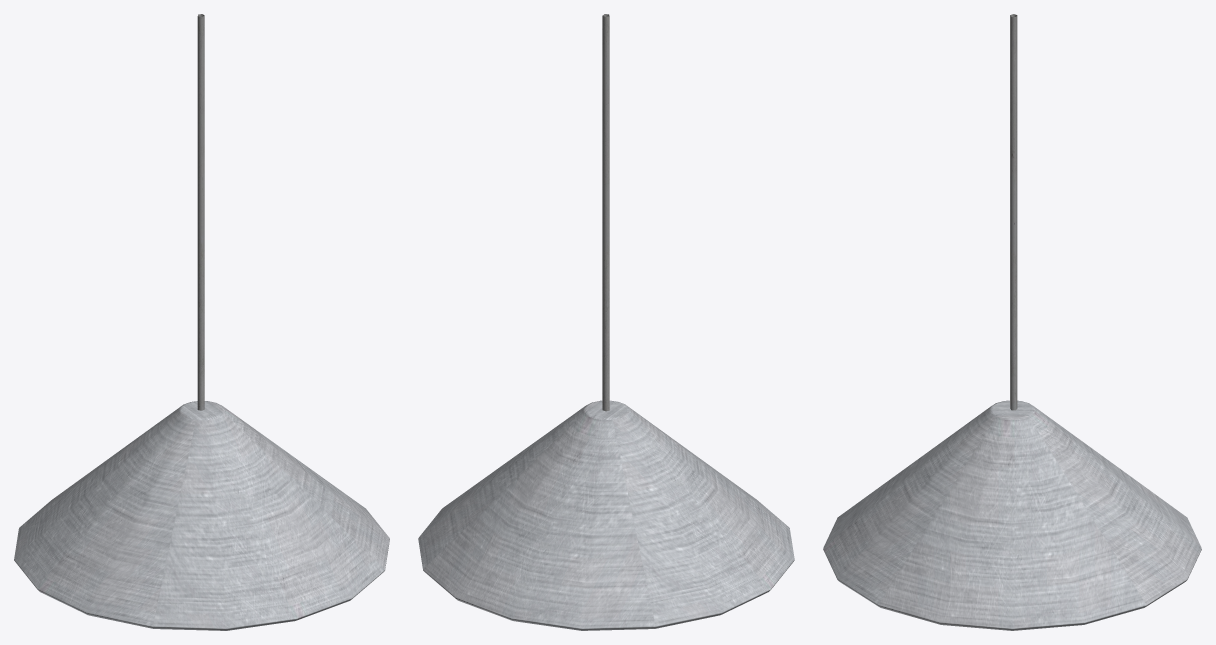
Rendered from SM_LightBulbB.FBX.
The picture shows the model from 3 angles, left to right: view 1: azimuth 30°, elevation 25°; view 2: azimuth 150°, elevation 25°; view 3: azimuth 270°, elevation 25°; orthographic projection.
Parts seen in each view (by area): view 1: SM_LightBulbB; view 2: SM_LightBulbB; view 3: SM_LightBulbB.
Boxes of the visible parts, box(x1,y1,x2,y2) form: SM_LightBulbB: box(14, 14, 389, 630); SM_LightBulbB: box(418, 14, 794, 630); SM_LightBulbB: box(823, 14, 1201, 630).
Bounding box in the file's own units: 32.23 × 50.66 × 32.23.
